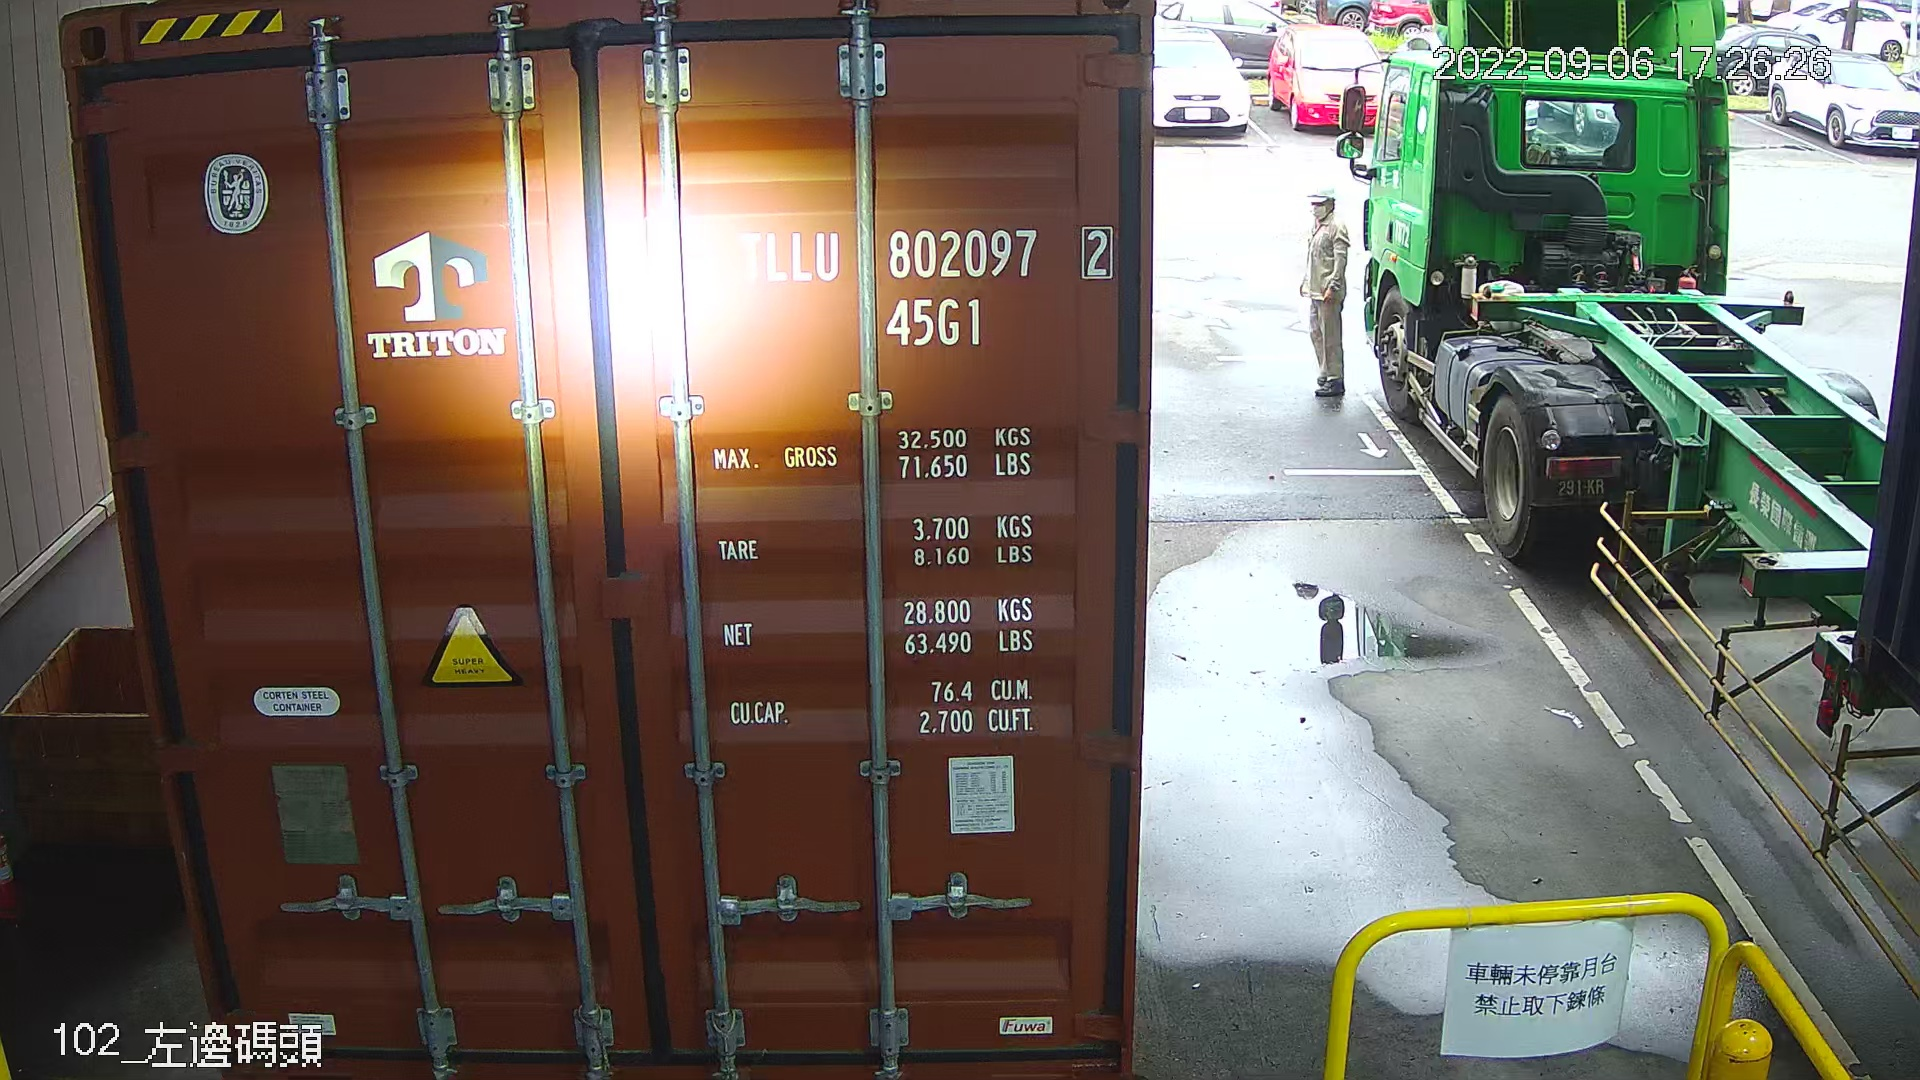container: (725, 216, 1129, 355)
